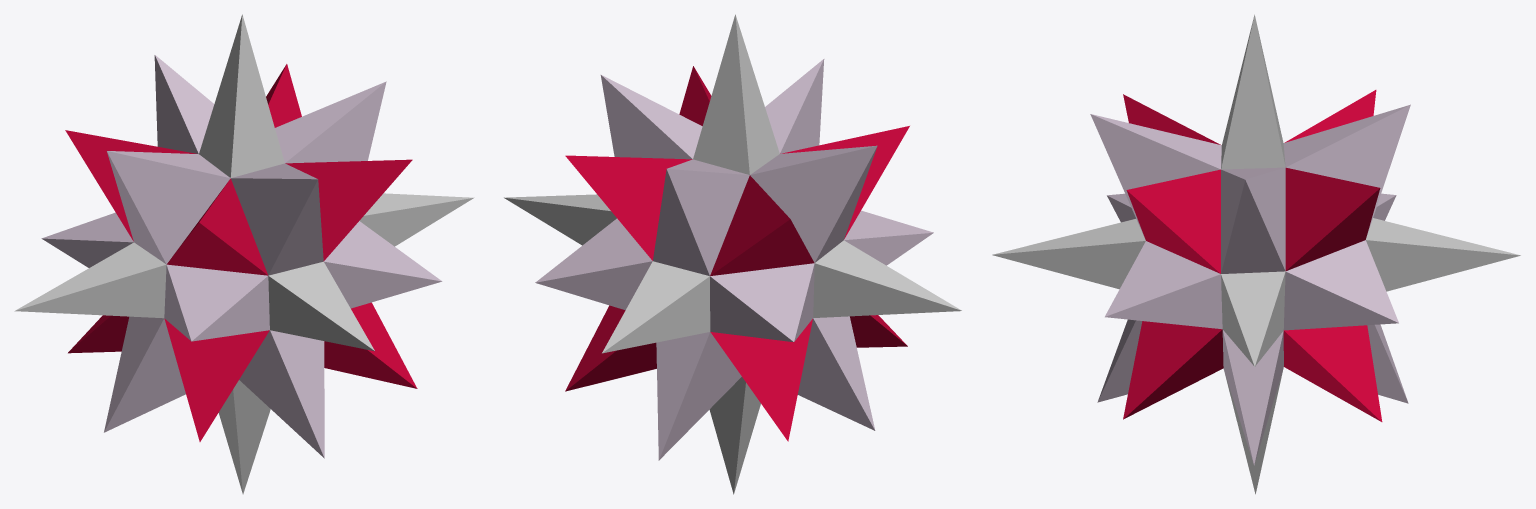
File: Star.obj
The picture shows the model from 3 angles, left to right: view 1: azimuth 30°, elevation 25°; view 2: azimuth 150°, elevation 25°; view 3: azimuth 270°, elevation 25°; orthographic projection.
Visible parts, largest first — view 1: Moravian_Star.002; view 2: Moravian_Star.002; view 3: Moravian_Star.002.
Boxes of the visible parts, <box> form: Moravian_Star.002: <box>14,14,474,494</box>; Moravian_Star.002: <box>504,14,961,494</box>; Moravian_Star.002: <box>992,14,1520,494</box>.
Size of the model in its own units: 1 by 1 by 1.
